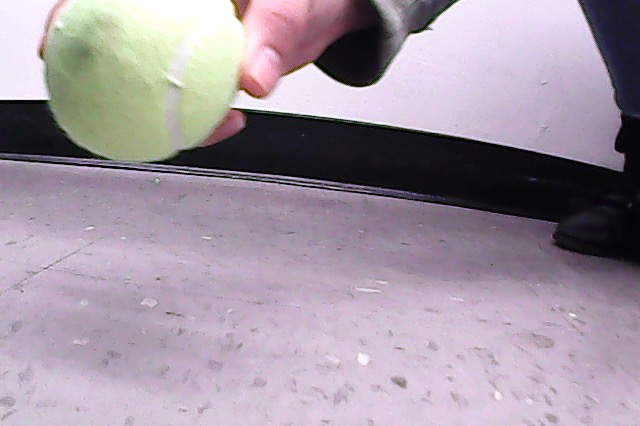ball: (45, 1, 246, 163)
